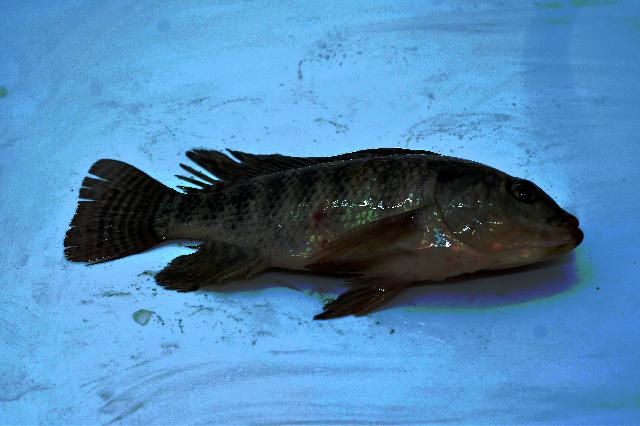Columnaris Disease: (64, 149, 583, 319)
